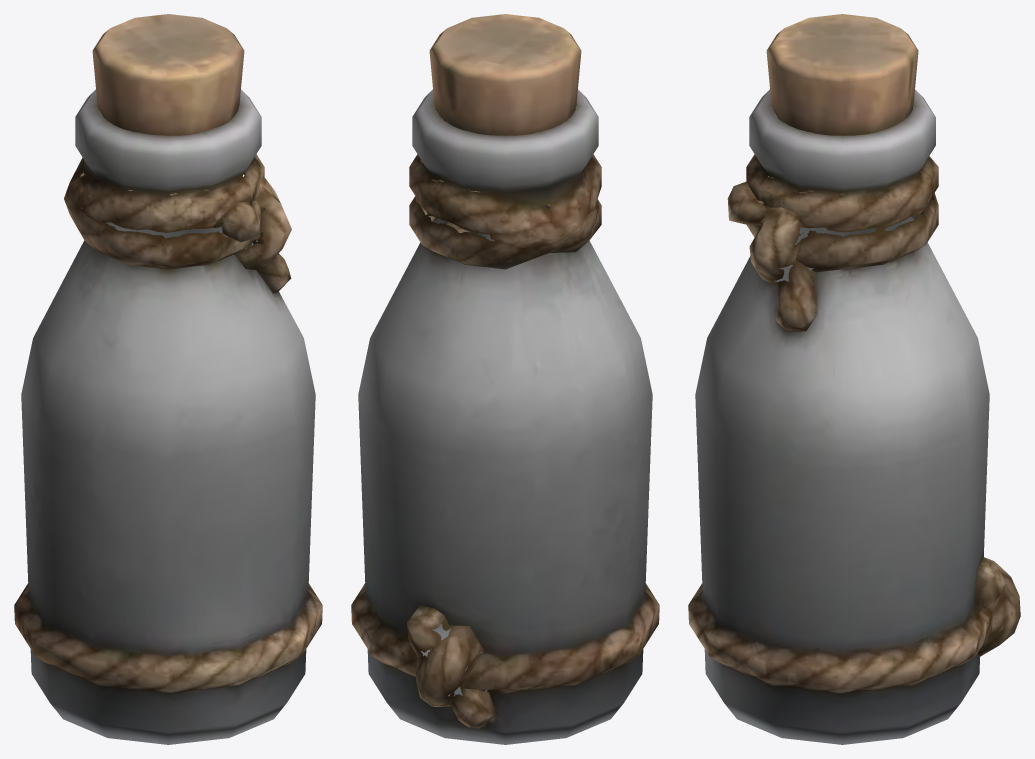
3 renders of one model, left to right at view 1: azimuth 30°, elevation 25°; view 2: azimuth 150°, elevation 25°; view 3: azimuth 270°, elevation 25°, orthographic.
Visible parts, largest first — view 1: SM_Lesser_White_Potion_LOD0; view 2: SM_Lesser_White_Potion_LOD0; view 3: SM_Lesser_White_Potion_LOD0.
Boxes of the visible parts, x1,y1,x2,y2 form: SM_Lesser_White_Potion_LOD0: (14,14,322,744); SM_Lesser_White_Potion_LOD0: (351,14,659,744); SM_Lesser_White_Potion_LOD0: (688,14,1020,744).
Size of the model in its own units: 0.1019 by 0.2372 by 0.1098.
